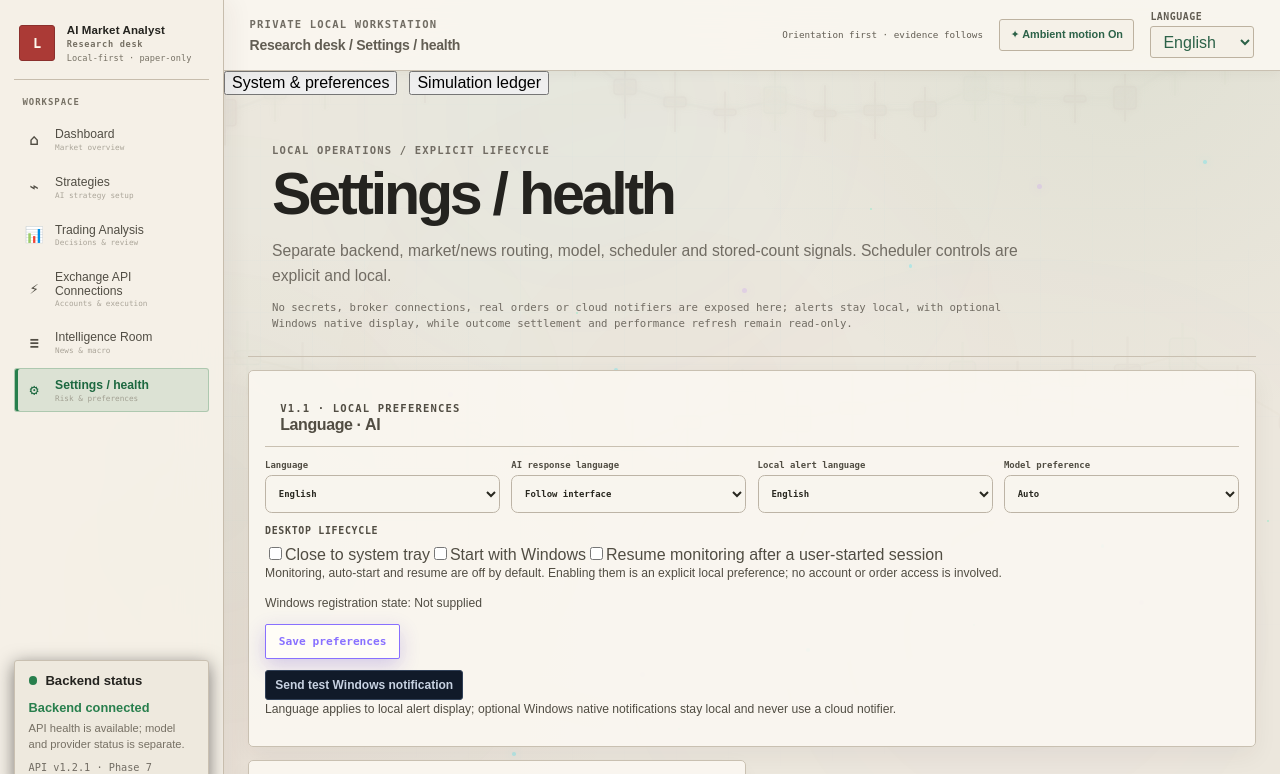
SettingsHealthPage › persists V1.1 language and deterministic model preferences through typed settings
The width and height of the screenshot is (1280, 774).
Expected: the heading "Language · AI" is shown, 280,416 -> 380,433
Select "Chinese" in the dropdown labelled "AI response language" at (629, 494), box 511,475 -> 746,513
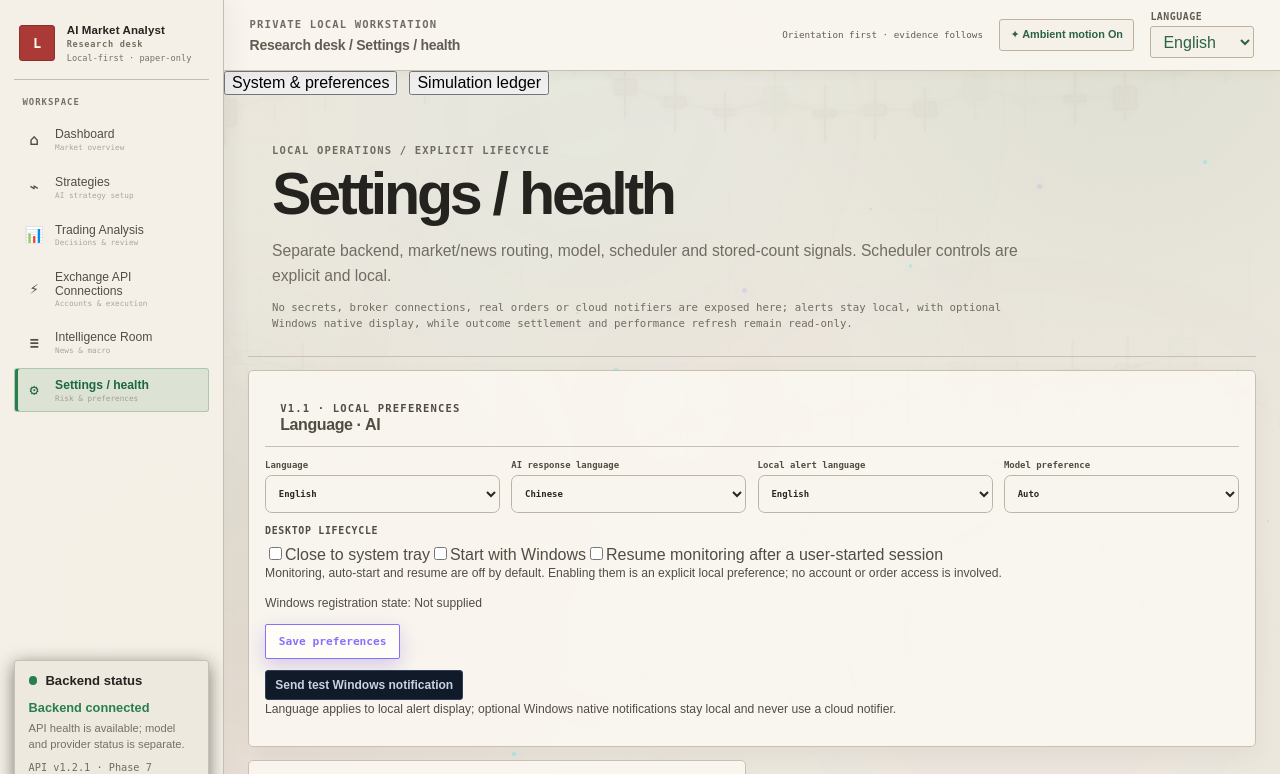
Select "Chinese" in the dropdown labelled "Local alert language" at (875, 494), box 758,475 -> 993,513
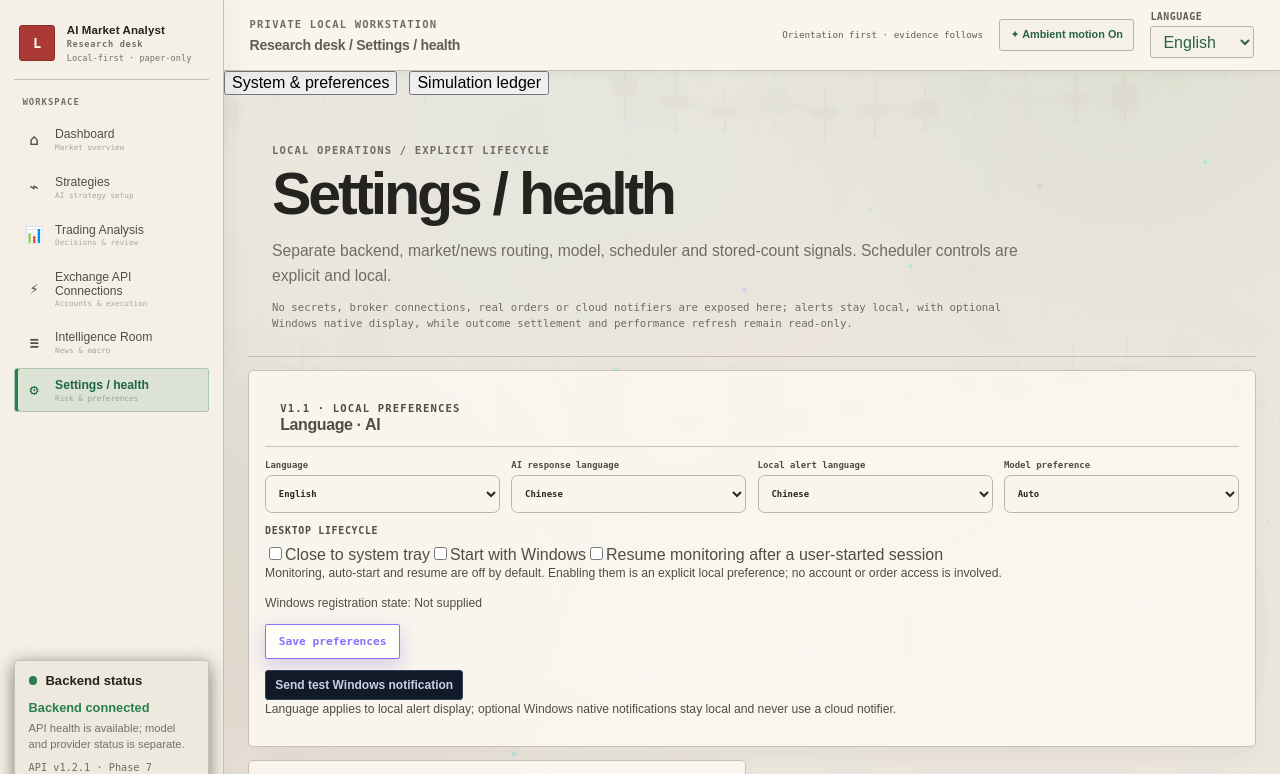
Select "Gemini 3.8 Flash · Deep" in the dropdown labelled "Model preference" at (1121, 494), box 1004,475 -> 1239,513
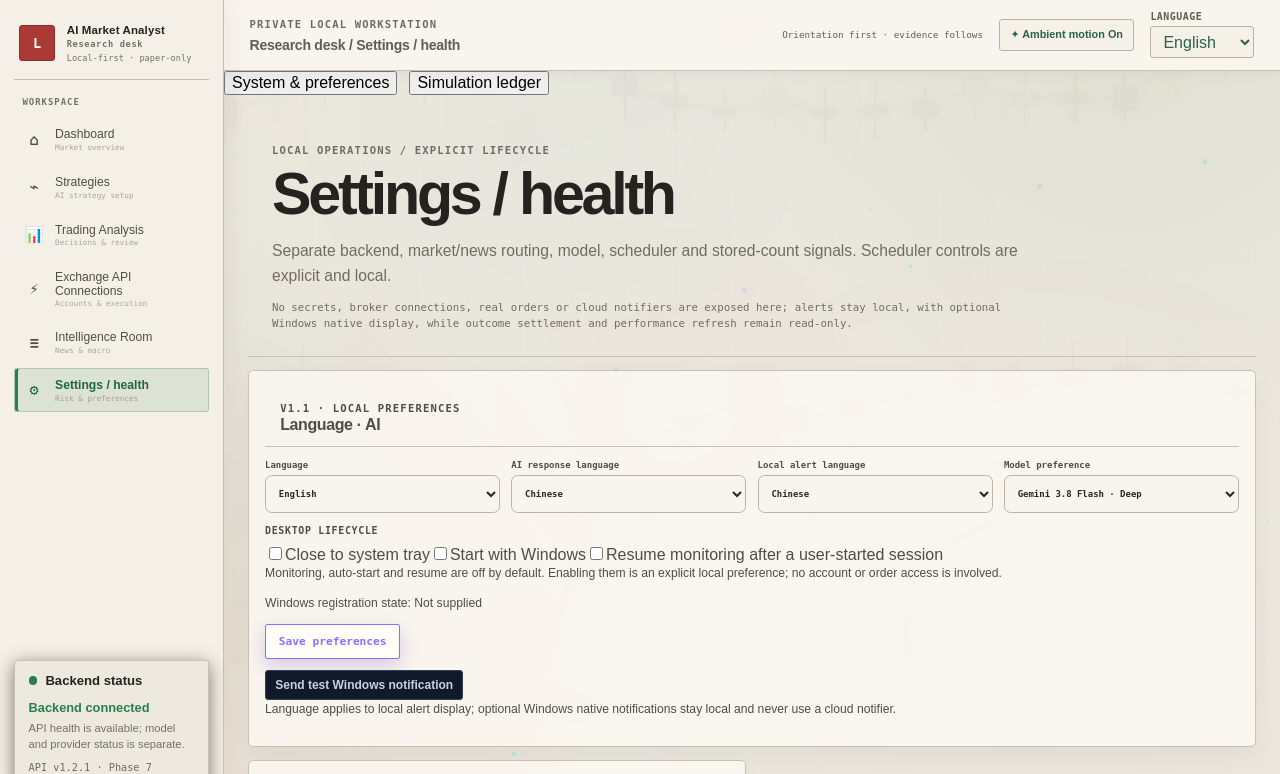
Click the button "Save preferences" at (333, 642), box 265,624 -> 400,659
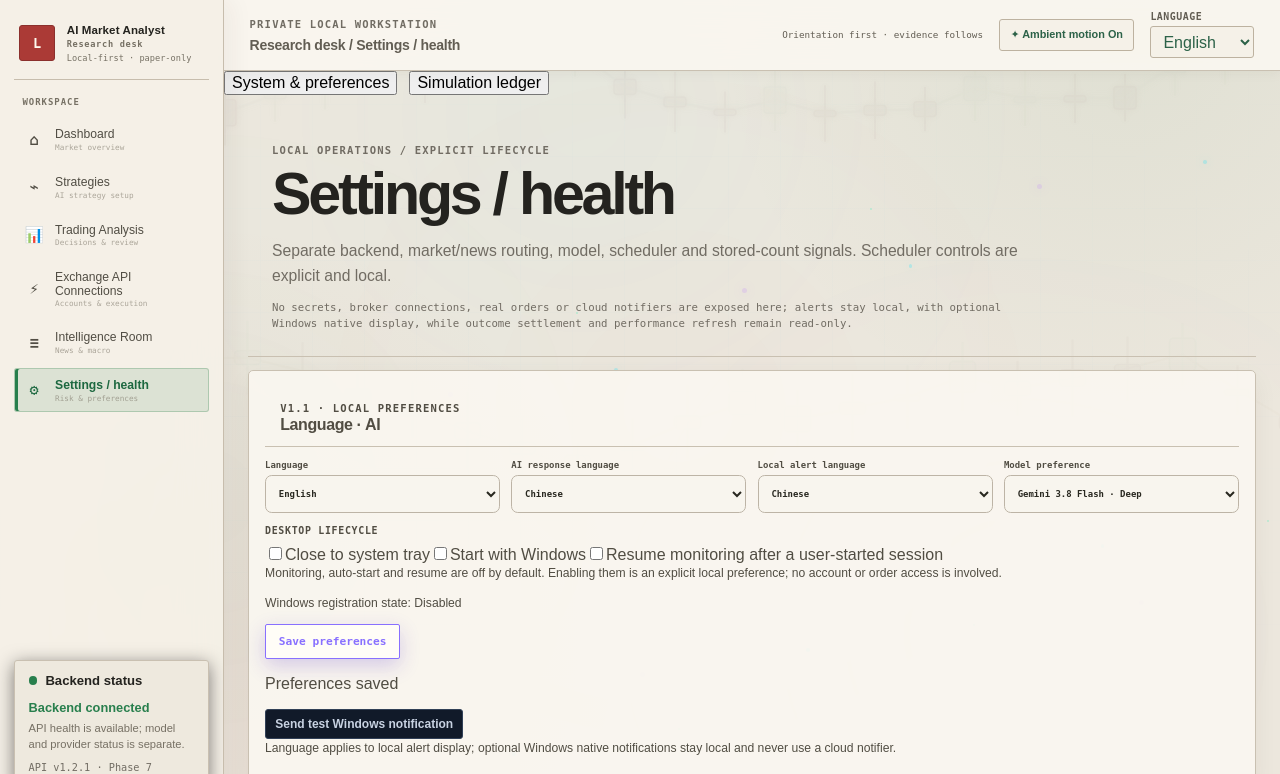
Expected: the text "Preferences saved" is shown, 265,675 -> 398,692
